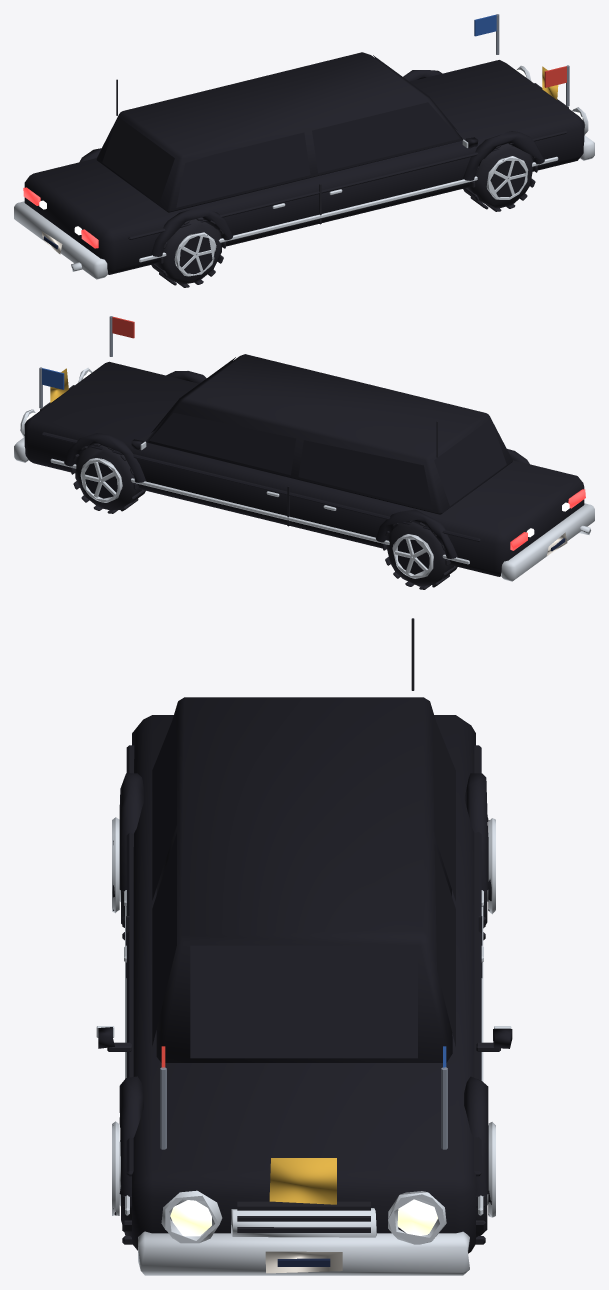
The model's file is mayor_limo.glb.
3 renders of one model, top to bottom at view 1: azimuth 30°, elevation 25°; view 2: azimuth 150°, elevation 25°; view 3: azimuth 270°, elevation 25°, orthographic. The views are drawn at different scales.
Visible parts, largest first — view 1: mayor_limo; view 2: mayor_limo; view 3: mayor_limo.
Boxes of the visible parts, <box> form: mayor_limo: <box>14,14,594,287</box>; mayor_limo: <box>14,316,594,589</box>; mayor_limo: <box>96,618,512,1275</box>.
Bounding box in the file's own units: 6.74 × 1.94 × 2.36.
1 material, 1 textured.
